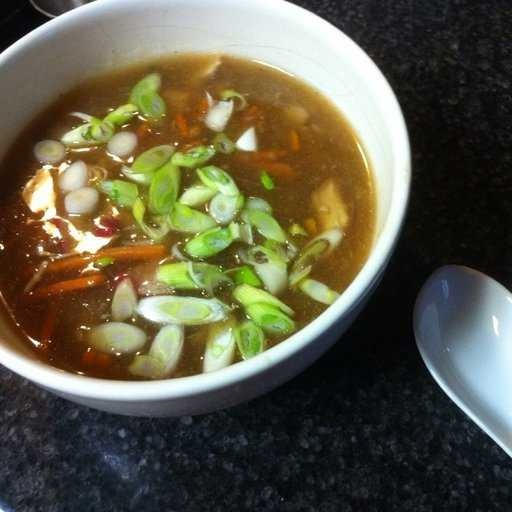soup: (1, 13, 373, 384)
